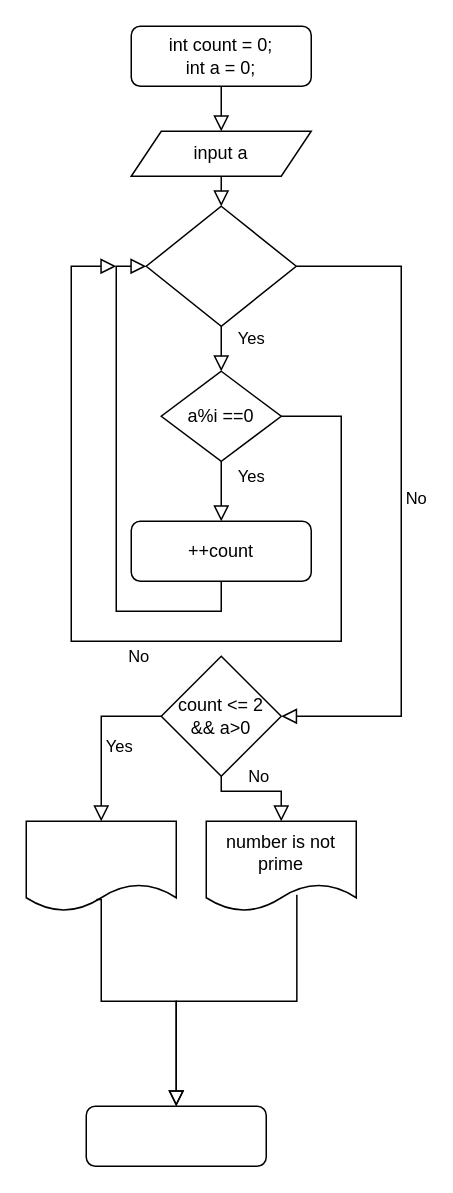
This 453x1193 diagram has some shape labels left out. The shapes that lost their labels are listed below. From the top down, each one's centre as x and y in pixels, then its label:
point 220,265: int i=0; i<=a; ++i
point 100,865: number is prime
point 175,1135: return 0;
